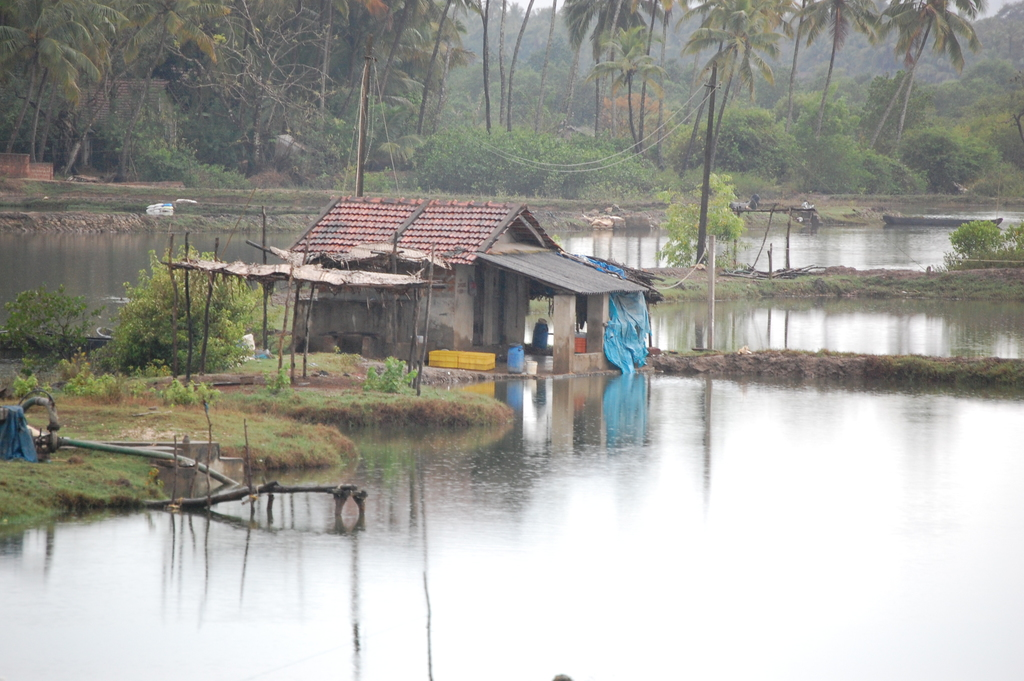Tree: (0, 0, 1024, 182), (101, 240, 254, 378), (657, 174, 737, 262)
